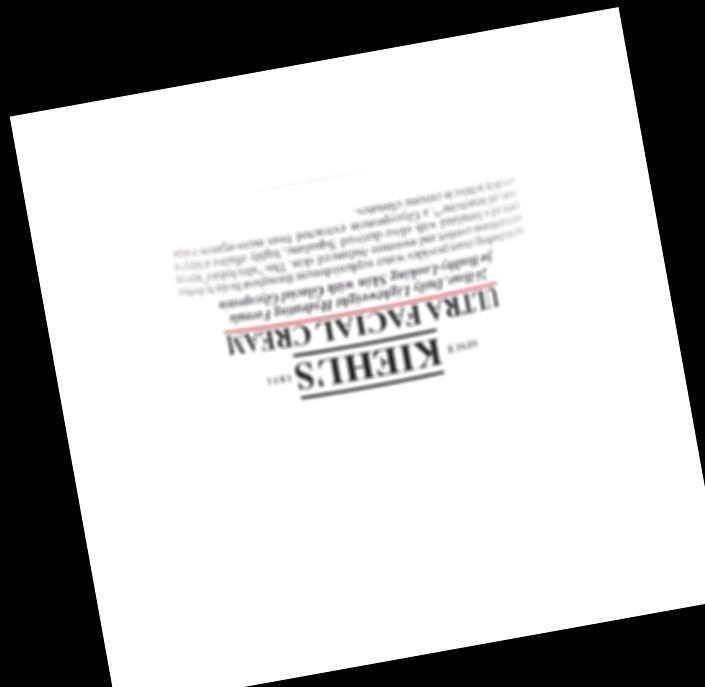cosmetic: (159, 140, 572, 503)
